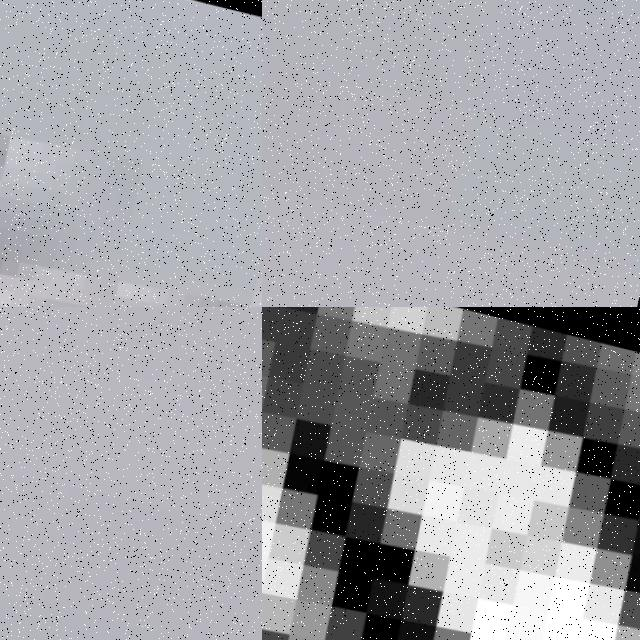0: (0, 0, 262, 307)
drone: (262, 307, 640, 640)
